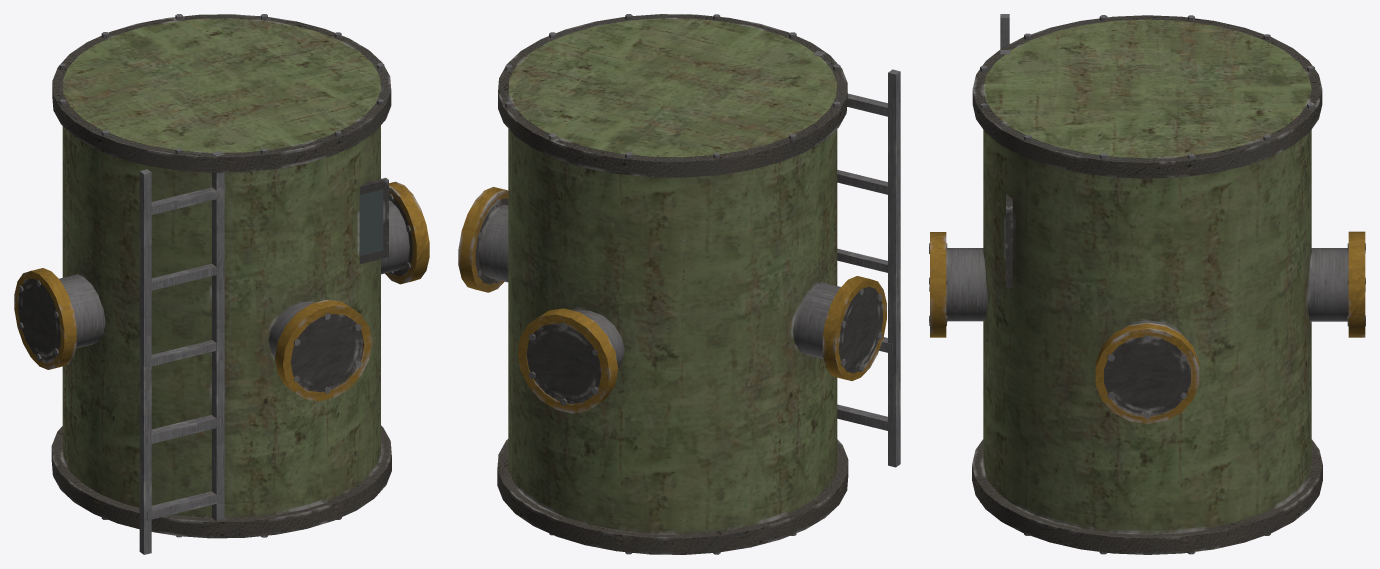
The model's file is feTowerSection_HD.fbx.
3 renders of one model, left to right at view 1: azimuth 30°, elevation 25°; view 2: azimuth 150°, elevation 25°; view 3: azimuth 270°, elevation 25°, orthographic. The views are drawn at different scales.
Parts seen in each view (by area): view 1: feTowerSection_Base; view 2: feTowerSection_Base; view 3: feTowerSection_Base.
Boxes of the visible parts, left/top/right/bottom form: feTowerSection_Base: left=14, top=14, right=429, bottom=554; feTowerSection_Base: left=458, top=14, right=900, bottom=554; feTowerSection_Base: left=929, top=14, right=1365, bottom=554.
Bounding box in the file's own units: 1.01 × 1.02 × 1.01.
Materials: 1 (1 with a texture image).
